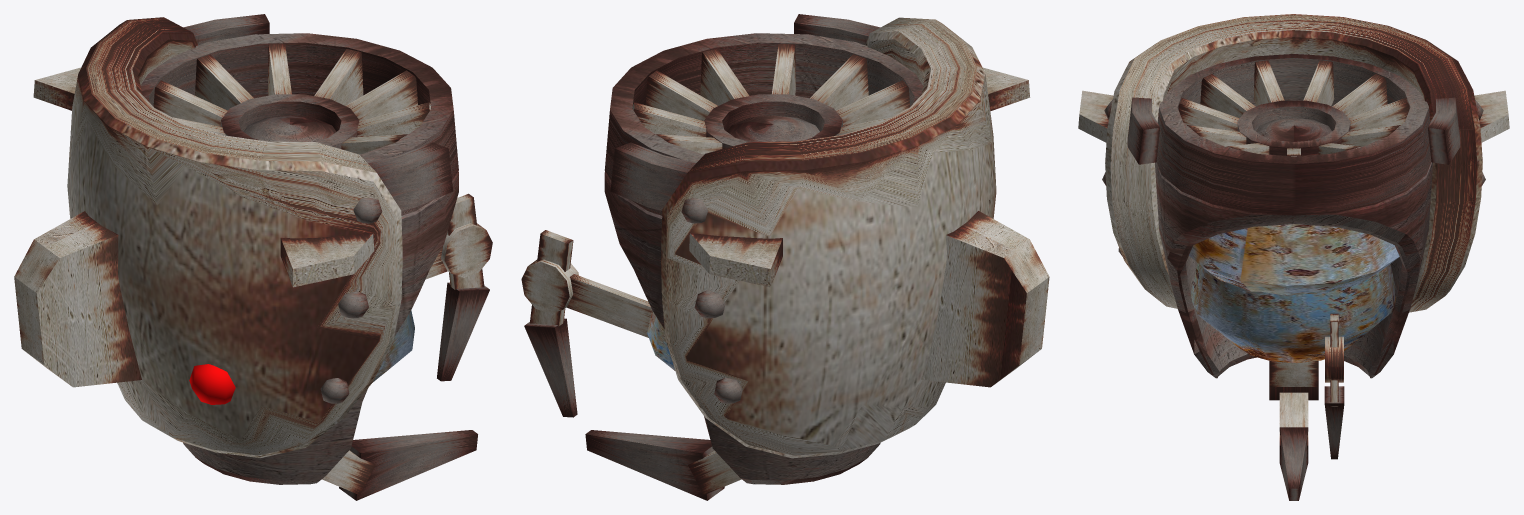
File: static.fbx
3 renders of one model, left to right at view 1: azimuth 30°, elevation 25°; view 2: azimuth 150°, elevation 25°; view 3: azimuth 270°, elevation 25°, orthographic. The views are drawn at different scales.
Visible parts, largest first — view 1: Extrude, Cube_2_3, Tube, Boole, Cube_4_2, Cube_1_2, Cube_2_2, Tube_1, Cube_2, Cylinder, Cube_5, Sphere_3 (+13 smaller); view 2: Extrude, Cube_2_3, Tube, Boole, Cube_4_2, Cube_1_2, Cube_2_2, Tube_1, Cube_3, Cube_2, Cylinder, Cube_5 (+12 smaller); view 3: Extrude, Tube, Boole, Cylinder_5, Cylinder_3, Cube_4_2, Tube_1, Cube_1_2, Cube_2_2, Cube, Sphere_3, Cube_9 (+11 smaller).
Part boxes in pixels (x1,y1,x2,y2): Extrude: (67, 17, 402, 457); Cube_2_3: (14, 211, 141, 387); Tube: (140, 33, 458, 215); Boole: (183, 171, 458, 484); Cube_4_2: (183, 14, 453, 210); Cube_1_2: (33, 67, 374, 287); Cube_2_2: (339, 430, 477, 500); Tube_1: (220, 94, 359, 148); Cube_2: (437, 282, 489, 381); Cylinder: (441, 223, 492, 277); Cube_5: (346, 70, 417, 121); Sphere_3: (244, 115, 336, 141); Extrude: (661, 17, 996, 458); Cube_2_3: (921, 211, 1049, 387); Tube: (604, 33, 922, 215); Boole: (604, 171, 880, 484); Cube_4_2: (610, 14, 880, 210); Cube_1_2: (689, 67, 1030, 287); Cube_2_2: (585, 430, 724, 500); Tube_1: (704, 94, 842, 148); Cube_3: (566, 274, 651, 337); Cube_2: (524, 318, 577, 417); Cylinder: (521, 259, 578, 313); Cube_5: (645, 70, 717, 120); Extrude: (1105, 14, 1482, 312); Tube: (1156, 54, 1431, 215); Boole: (1155, 162, 1432, 378); Cylinder_5: (1191, 263, 1395, 363); Cylinder_3: (1189, 224, 1399, 295); Cube_4_2: (1127, 97, 1460, 164); Tube_1: (1237, 100, 1350, 155); Cube_1_2: (1078, 90, 1509, 142); Cube_2_2: (1279, 427, 1308, 500); Cube: (1269, 361, 1318, 400); Sphere_3: (1256, 117, 1331, 141); Cube_9: (1200, 74, 1255, 118).
Size of the model in its own units: 151 by 129 by 142.
Materials: 4 (4 with a texture image).
